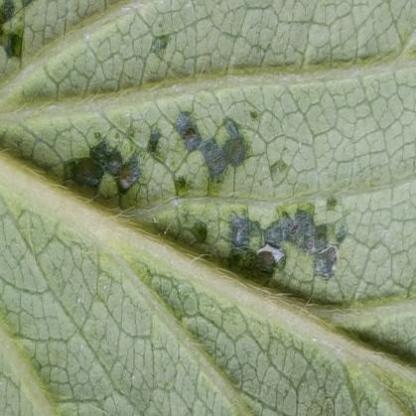Strawberry_Angular_LeafSpot: (0, 0, 366, 307)
